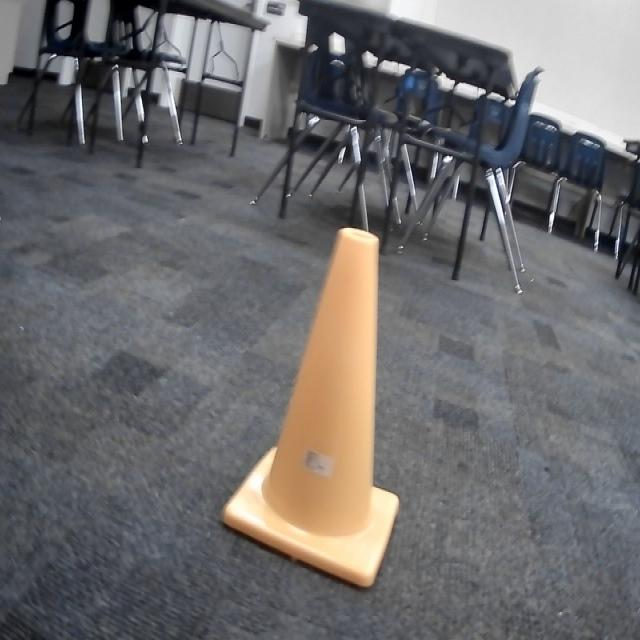cone: (221, 227, 401, 587)
